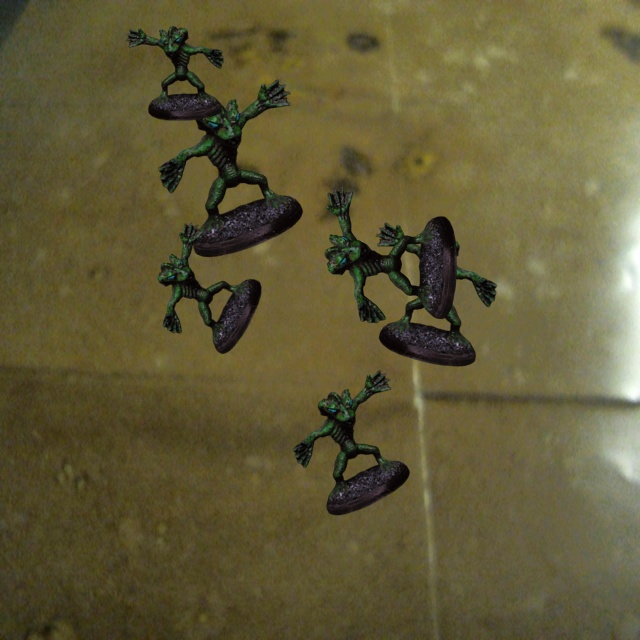pieza_juego: (158, 79, 302, 256), (324, 187, 456, 322), (376, 223, 496, 366), (293, 370, 409, 514), (158, 223, 261, 353), (125, 26, 223, 120)
